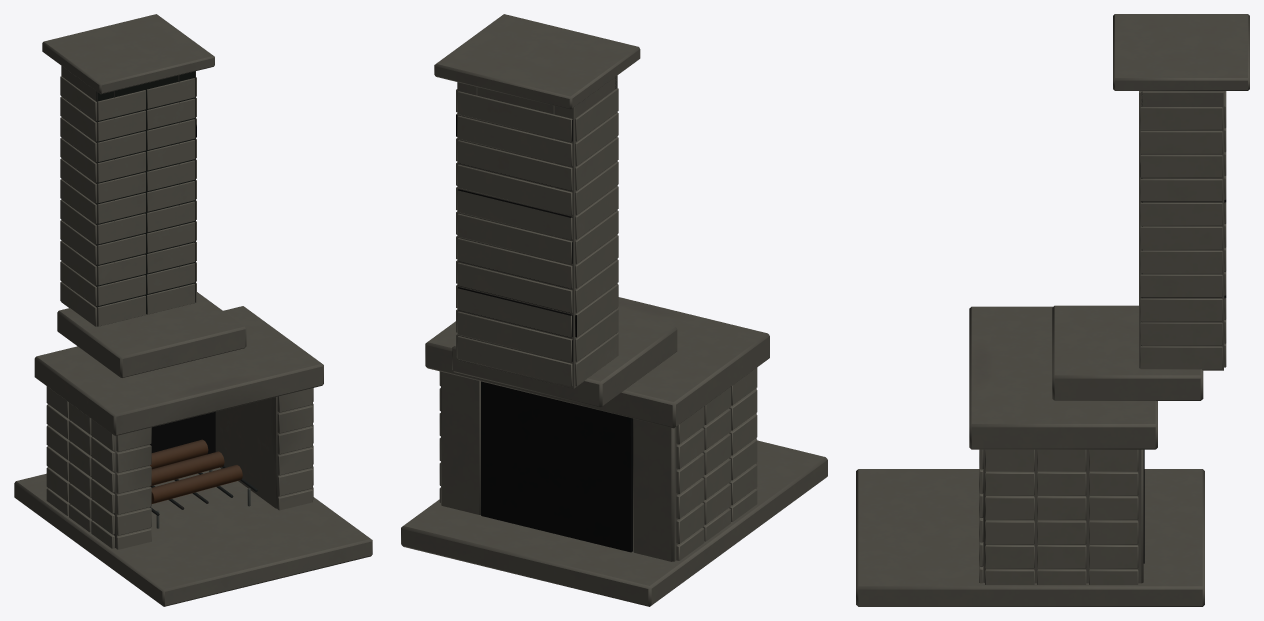
File: level_hc_native_213_0.glb
3 renders of one model, left to right at view 1: azimuth 30°, elevation 25°; view 2: azimuth 150°, elevation 25°; view 3: azimuth 270°, elevation 25°, orthographic. The views are drawn at different scales.
Visible parts, largest first — view 1: level_hc_native_213_0; view 2: level_hc_native_213_0; view 3: level_hc_native_213_0.
Part boxes in pixels (x1,y1,x2,y2): level_hc_native_213_0: (14, 14, 372, 606); level_hc_native_213_0: (401, 14, 827, 606); level_hc_native_213_0: (856, 14, 1249, 606).
Size of the model in its own units: 3 by 5.88 by 4.17.
1 material, 1 textured.
